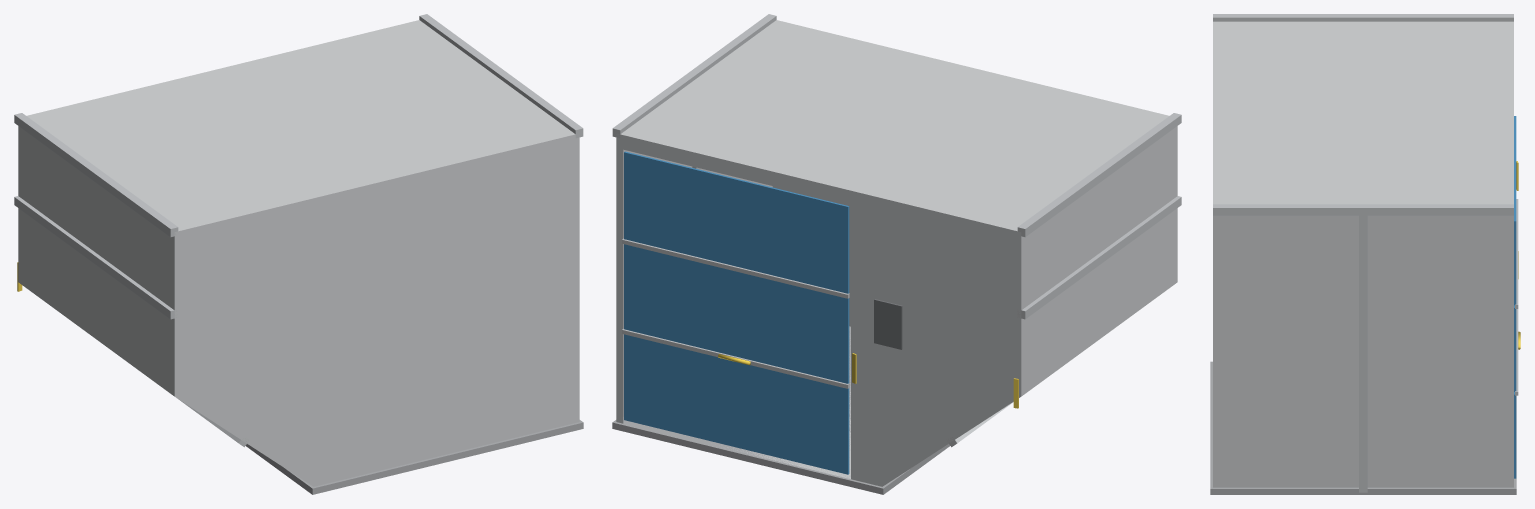
File: ULD 1.fbx
3 views of the same model, side by side, from view 1: azimuth 30°, elevation 25°; view 2: azimuth 150°, elevation 25°; view 3: azimuth 270°, elevation 25° (orthographic). The views are drawn at different scales.
Parts seen in each view (by area): view 1: ULD_Body_Shell, ULD_Base_Pallet, ULD_Frame_Extrusion_00, ULD_Frame_Extrusion_03, ULD_Frame_Extrusion_01; view 2: ULD_Body_Shell, Door_Curtain_Segment_3, Door_Curtain_Segment_1, Door_Curtain_Segment_2, ULD_Base_Pallet, ULD_Frame_Extrusion_00, ULD_Frame_Extrusion_03, ULD_Frame_Extrusion_01, Document_Manifest_Pouch, Door_Stiffener_Bar_2, Door_Stiffener_Bar_1; view 3: ULD_Body_Shell, ULD_Frame_Extrusion_01, ULD_Base_Pallet, ULD_Frame_Extrusion_02, ULD_Frame_Extrusion_00, Door_Curtain_Segment_3.
Boxes of the visible parts, x1=… form: ULD_Body_Shell: x1=18, y1=20, x2=579, y2=486; ULD_Base_Pallet: x1=245, y1=420, x2=583, y2=494; ULD_Frame_Extrusion_00: x1=14, y1=113, x2=178, y2=237; ULD_Frame_Extrusion_03: x1=14, y1=196, x2=177, y2=319; ULD_Frame_Extrusion_01: x1=419, y1=14, x2=583, y2=138; ULD_Body_Shell: x1=616, y1=20, x2=1177, y2=486; Door_Curtain_Segment_3: x1=624, y1=151, x2=849, y2=293; Door_Curtain_Segment_1: x1=624, y1=334, x2=849, y2=474; Door_Curtain_Segment_2: x1=624, y1=244, x2=849, y2=383; ULD_Base_Pallet: x1=612, y1=326, x2=950, y2=494; ULD_Frame_Extrusion_00: x1=1017, y1=113, x2=1181, y2=237; ULD_Frame_Extrusion_03: x1=1017, y1=196, x2=1181, y2=319; ULD_Frame_Extrusion_01: x1=612, y1=14, x2=776, y2=138; Document_Manifest_Pouch: x1=874, y1=299, x2=902, y2=349; Door_Stiffener_Bar_2: x1=622, y1=238, x2=849, y2=298; Door_Stiffener_Bar_1: x1=622, y1=328, x2=849, y2=388; ULD_Body_Shell: x1=1213, y1=21, x2=1513, y2=487; ULD_Frame_Extrusion_01: x1=1213, y1=204, x2=1513, y2=215; ULD_Base_Pallet: x1=1210, y1=361, x2=1516, y2=494; ULD_Frame_Extrusion_02: x1=1359, y1=209, x2=1367, y2=492; ULD_Frame_Extrusion_00: x1=1213, y1=14, x2=1513, y2=21; Door_Curtain_Segment_3: x1=1514, y1=116, x2=1516, y2=305.
Size of the model in its own units: 238 by 165 by 161.
